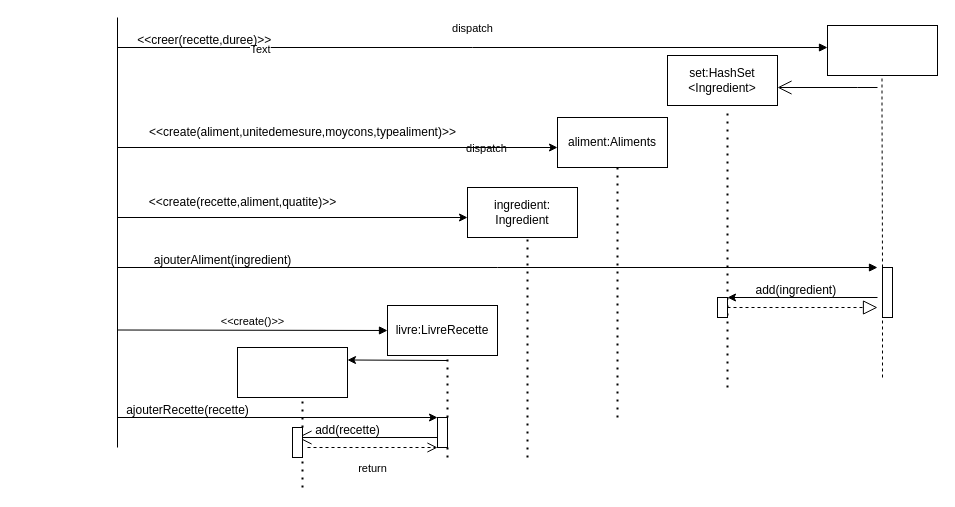
Image size: 955x507. Some labels were removed from this diagram. Each missing label, with the box of its shape:
recette:Recette: (826, 24, 938, 76)
set:HashSet <recettes>: (236, 346, 348, 398)
